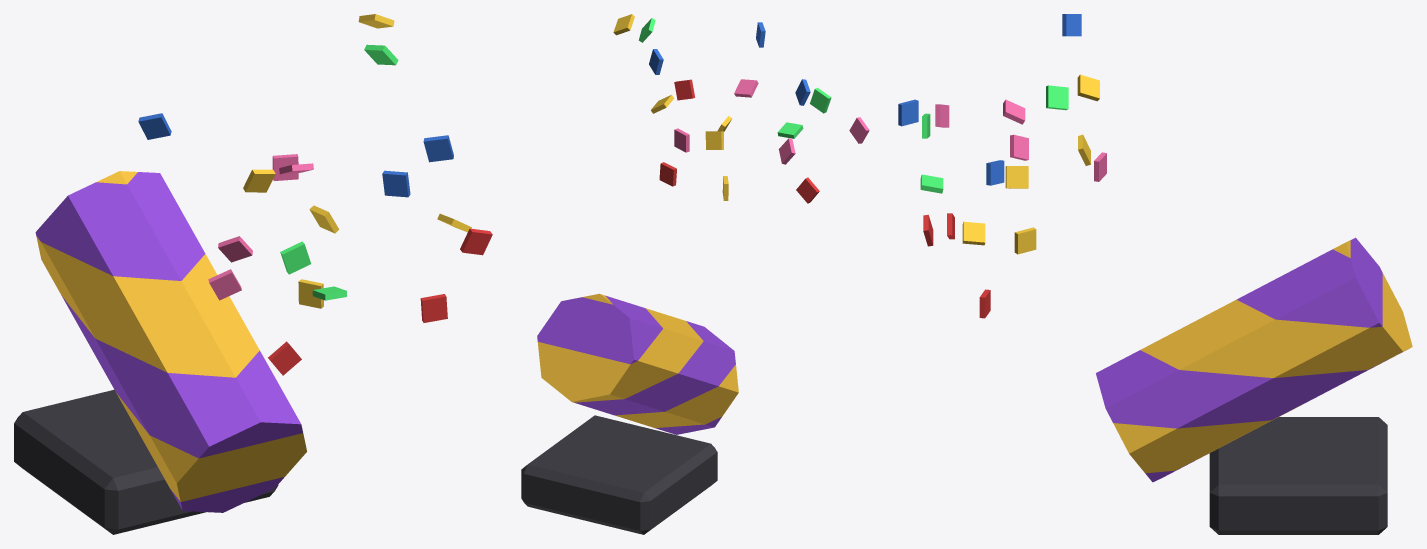
File: ConfettiCannon.fbx
3 renders of one model, left to right at view 1: azimuth 30°, elevation 25°; view 2: azimuth 150°, elevation 25°; view 3: azimuth 270°, elevation 25°, orthographic. The views are drawn at different scales.
Parts seen in each view (by area): view 1: ConfettiCannon; view 2: ConfettiCannon; view 3: ConfettiCannon.
Boxes of the visible parts, box(x1,y1,x2,y2) form: ConfettiCannon: box(14, 14, 492, 534); ConfettiCannon: box(521, 14, 869, 534); ConfettiCannon: box(898, 14, 1412, 534).
Bounding box in the file's own units: 2.52 × 4.69 × 4.63.
Materials: 1 (1 with a texture image).
